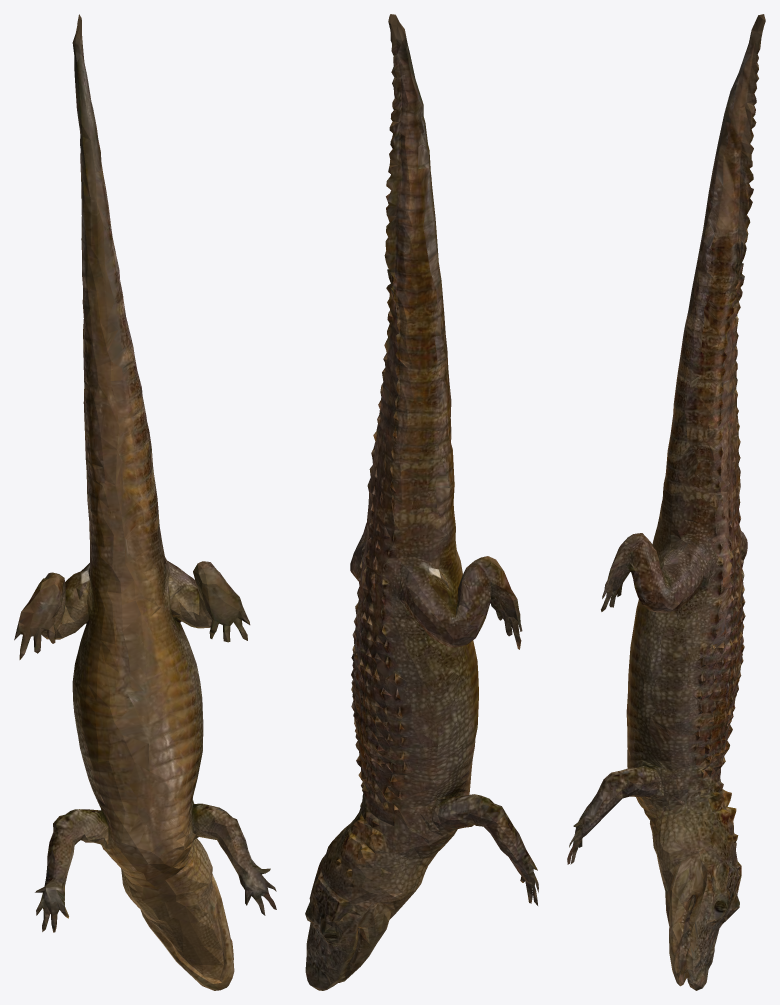
File: gator_c.glb
3 views of the same model, side by side, from view 1: azimuth 30°, elevation 25°; view 2: azimuth 150°, elevation 25°; view 3: azimuth 270°, elevation 25° (orthographic). The views are drawn at different scales.
Visible parts, largest first — view 1: dock; view 2: dock; view 3: dock.
Part boxes in pixels (x1=…): dock: x1=14, y1=14, x2=276, y2=990; dock: x1=305, y1=14, x2=538, y2=990; dock: x1=567, y1=14, x2=765, y2=990.
Size of the model in its own units: 0.8465 by 3.72 by 0.7222.
1 material, 1 textured.
